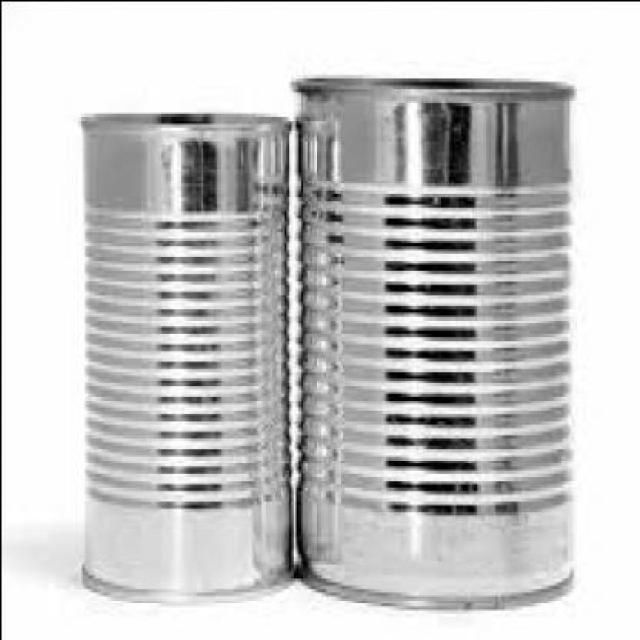METAL: (292, 66, 576, 605), (81, 111, 292, 594)
